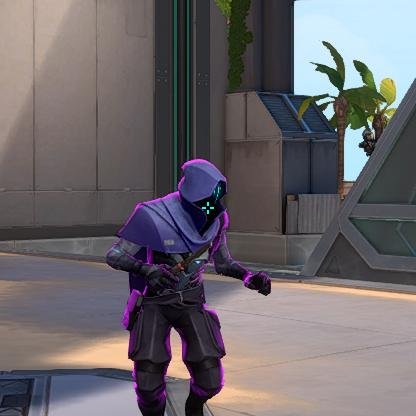enemyBody: (159, 235, 195, 299)
enemyHead: (191, 172, 220, 227)
